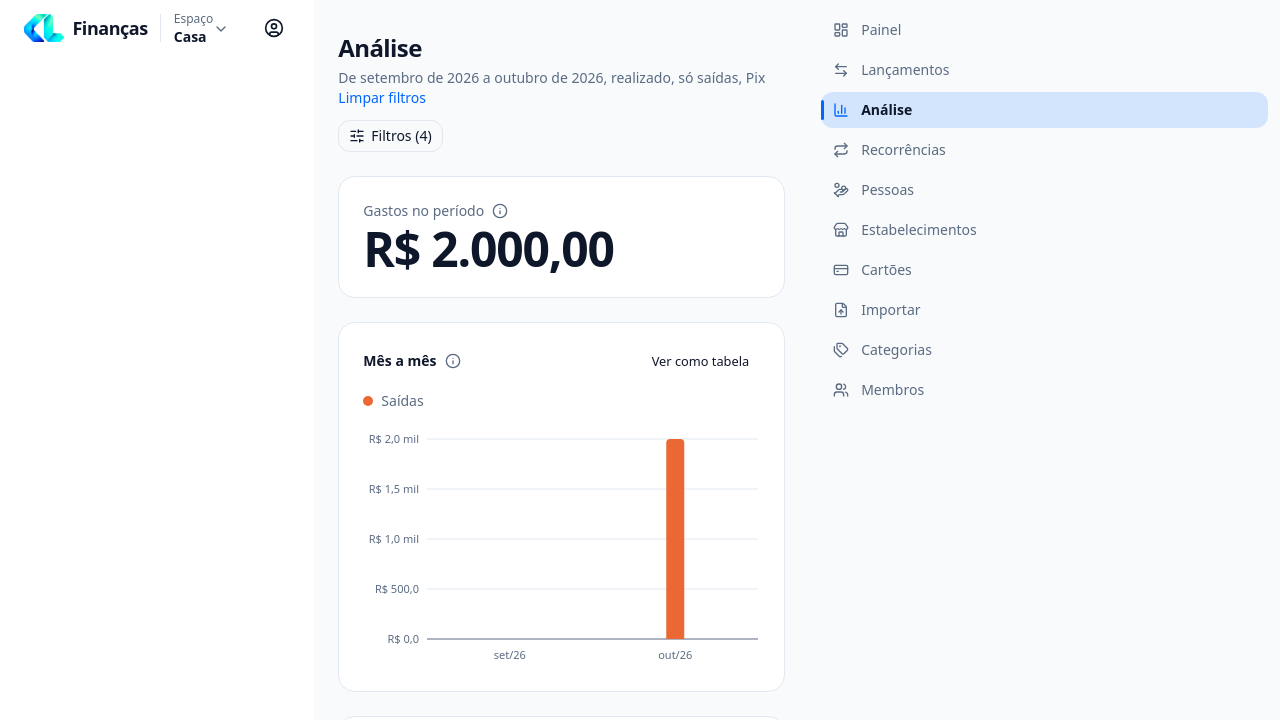
AnalysisPage › payment method and merchant filters (ADR 0037 note) › clears what narrows the numbers, keeping the period and the view
The image size is (1280, 720).
Step 1. Click the button "Limpar filtros" → (382, 98), box x1=338 y1=88 x2=426 y2=108
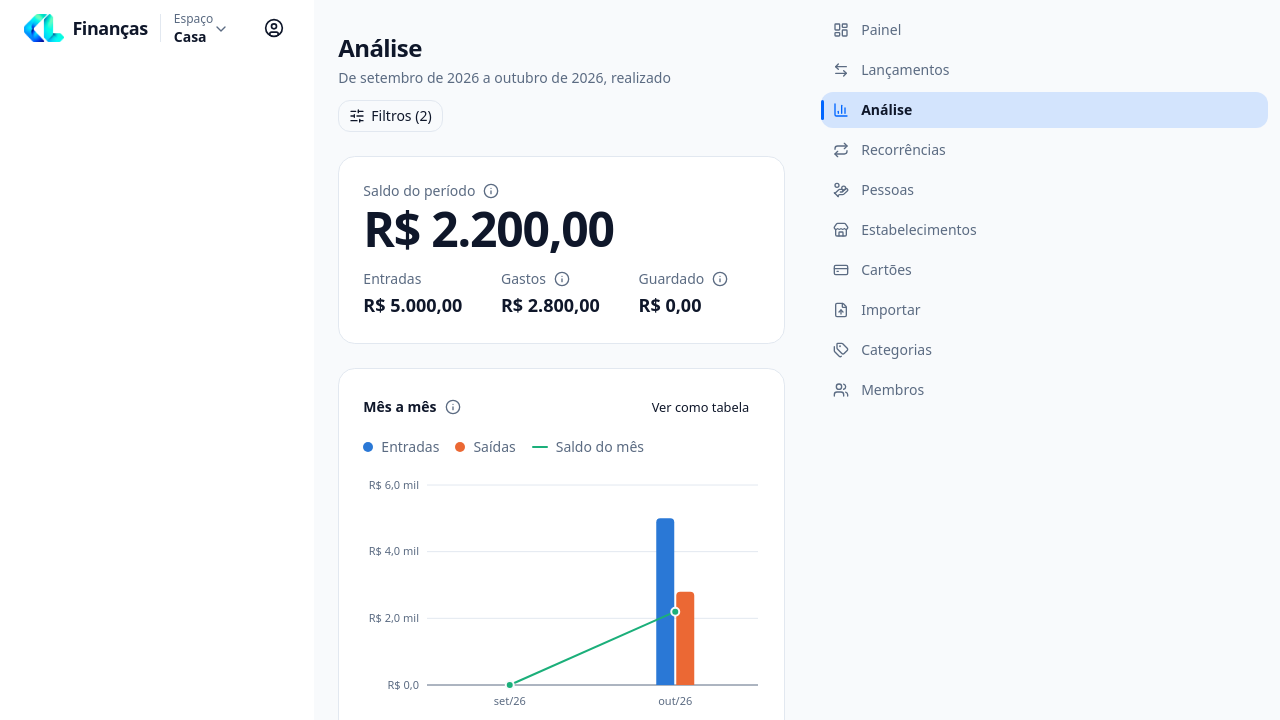
Expected: the button "Limpar filtros" is gone
